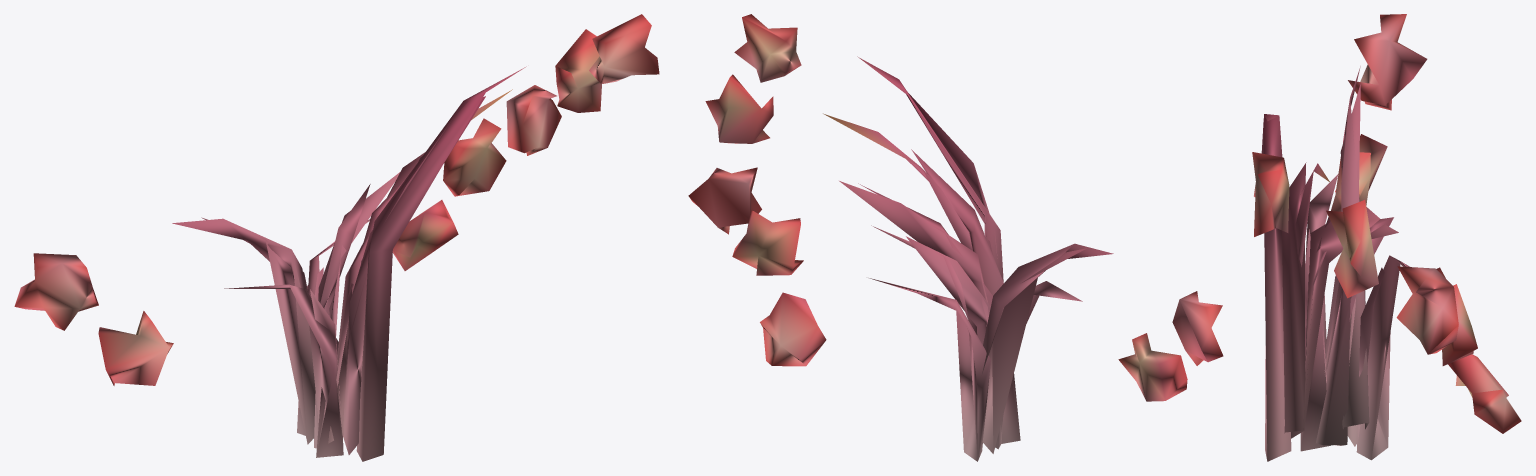
3 views of the same model, side by side, from view 1: azimuth 30°, elevation 25°; view 2: azimuth 150°, elevation 25°; view 3: azimuth 270°, elevation 25° (orthographic). The views are drawn at different scales.
Visible parts, largest first — view 1: LOD 5_4441588532611241159_8b1ec056629fd29428edb46917b1fdee; view 2: LOD 5_4441588532611241159_8b1ec056629fd29428edb46917b1fdee; view 3: LOD 5_4441588532611241159_8b1ec056629fd29428edb46917b1fdee.
Boxes of the visible parts, <box> form: LOD 5_4441588532611241159_8b1ec056629fd29428edb46917b1fdee: <box>14,14,659,461</box>; LOD 5_4441588532611241159_8b1ec056629fd29428edb46917b1fdee: <box>688,14,1223,461</box>; LOD 5_4441588532611241159_8b1ec056629fd29428edb46917b1fdee: <box>1252,14,1521,461</box>.
Size of the model in its own units: 13.82 by 8.52 by 4.57.
